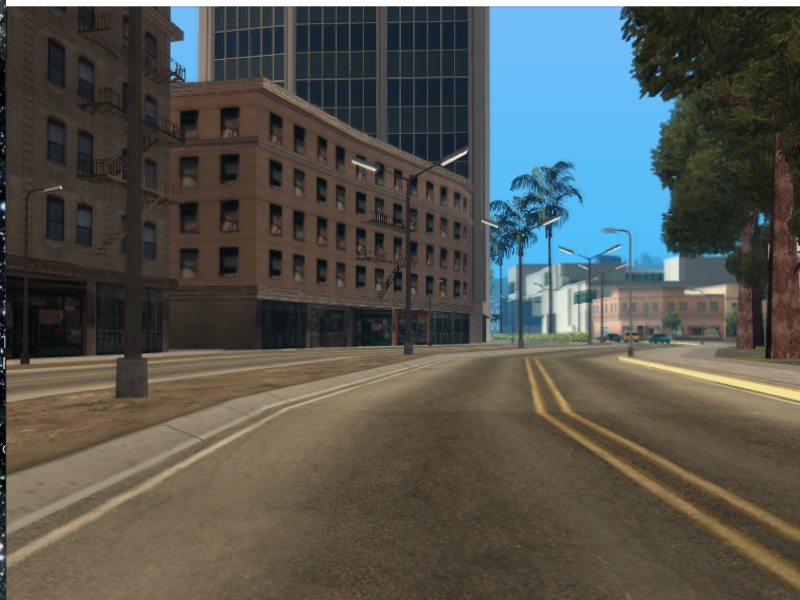pole: (119, 13, 155, 403), (402, 177, 419, 358), (22, 196, 36, 372), (626, 231, 636, 357), (516, 232, 526, 352), (586, 256, 596, 348)
vehicle: (650, 331, 670, 347), (606, 332, 619, 345), (625, 332, 638, 344)
